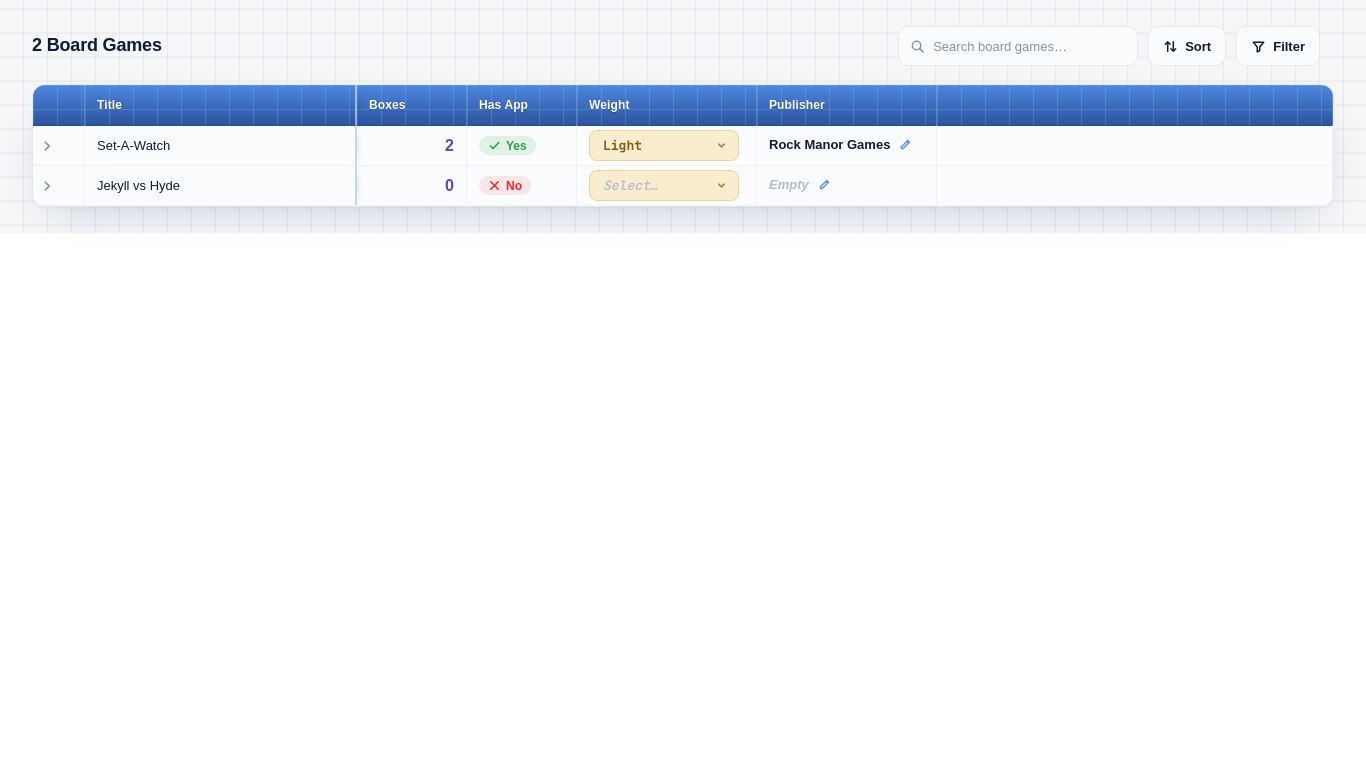
BoardGamesManager › inline-edits a game's title and PUTs the full game in mass edit mode
Click the button "Set-A-Watch" at (220, 146), box [91,135,349,156]
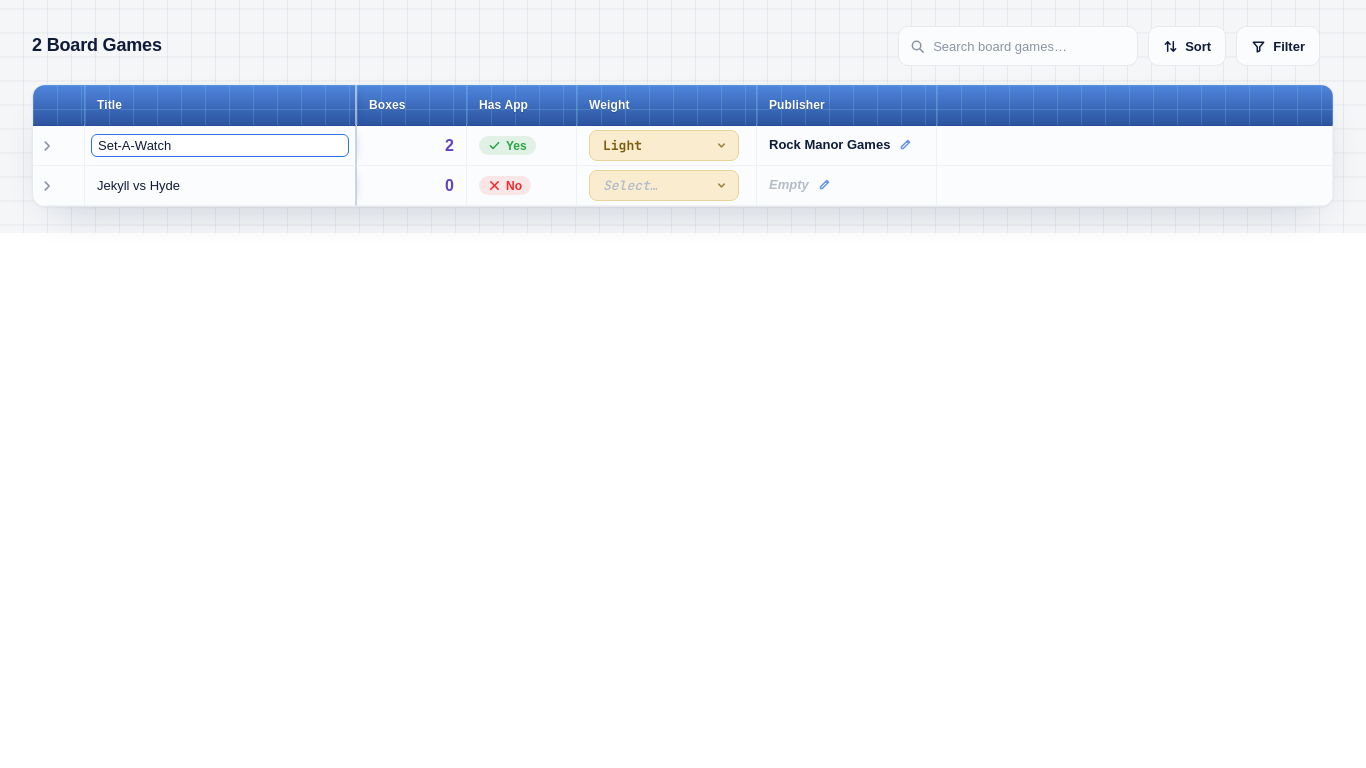
Replace the text in the field named "Title for Set-A-Watch" with "Set-A-Watch (2nd Ed.)" at (220, 146), box [91,134,349,157]
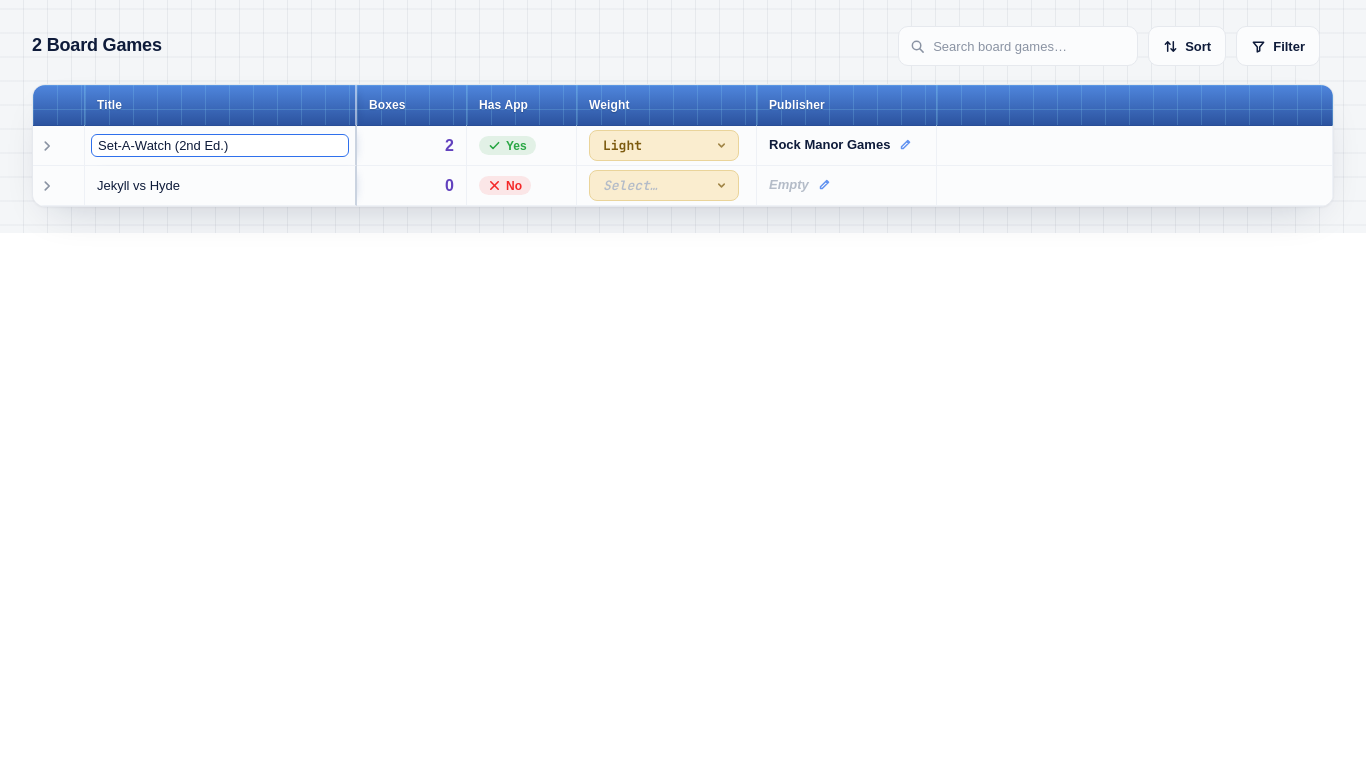
Press Enter in the field named "Title for Set-A-Watch", box [91,134,349,157]
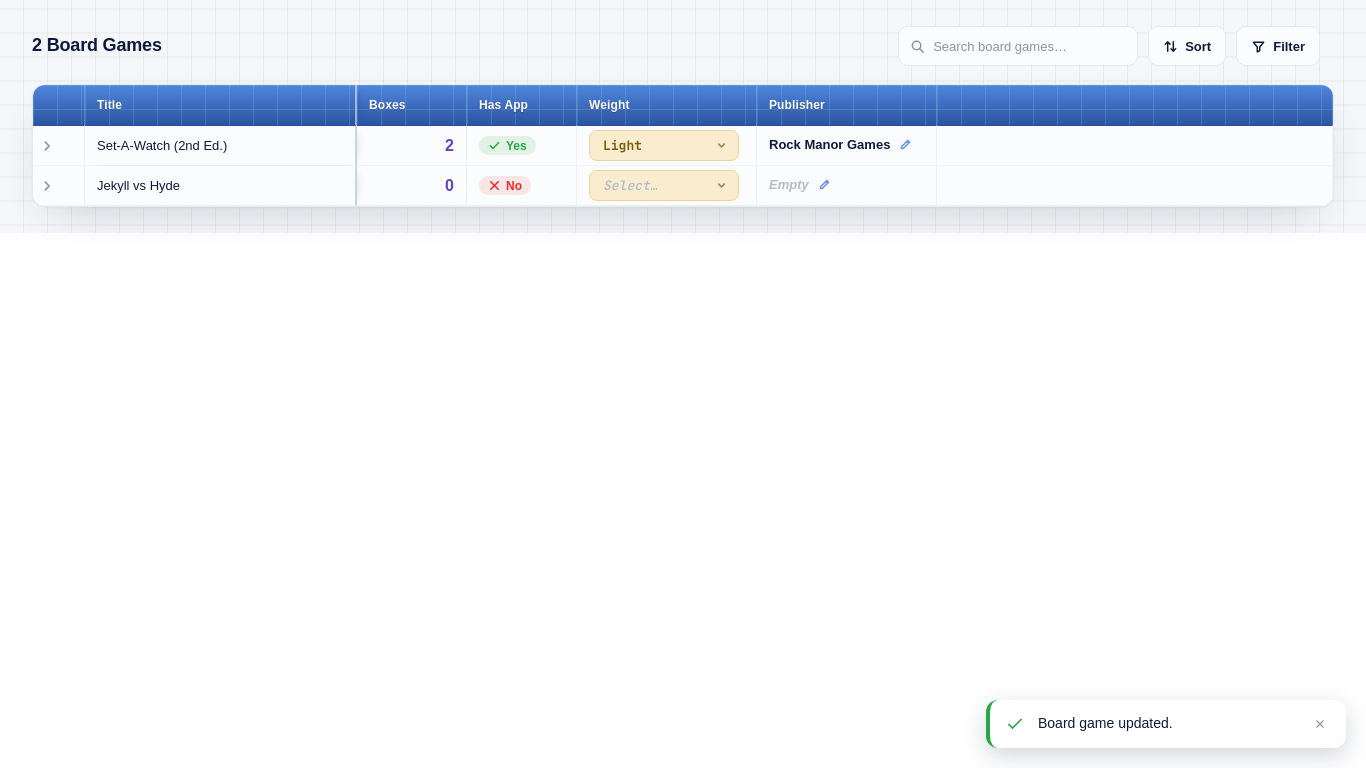
Result: the button "Set-A-Watch (2nd Ed.)" is shown at [91,135,349,156]
